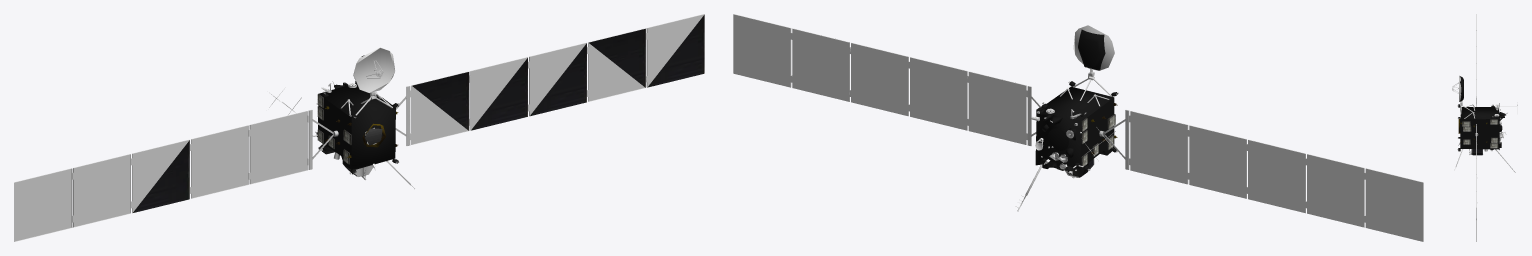
The model's file is rosetta.glb.
3 views of the same model, side by side, from view 1: azimuth 30°, elevation 25°; view 2: azimuth 150°, elevation 25°; view 3: azimuth 270°, elevation 25° (orthographic). The views are drawn at different scales.
Visible parts, largest first — view 1: dish, panels_01, black_krinkle; view 2: dish, black_krinkle, panels_01; view 3: black_krinkle, dish, panels_01, foil_gold.
Part boxes in pixels (x1,y1,x2,y2): dish: [14, 14, 704, 241]; panels_01: [133, 15, 704, 212]; black_krinkle: [316, 55, 398, 174]; dish: [733, 14, 1423, 241]; black_krinkle: [1035, 29, 1117, 170]; panels_01: [1036, 107, 1115, 177]; black_krinkle: [1458, 76, 1505, 150]; dish: [1452, 14, 1517, 241]; panels_01: [1462, 119, 1498, 155]; foil_gold: [1458, 119, 1487, 142].
Size of the model in its own units: 31.96 by 6.88 by 4.55.
7 materials, 5 textured.
